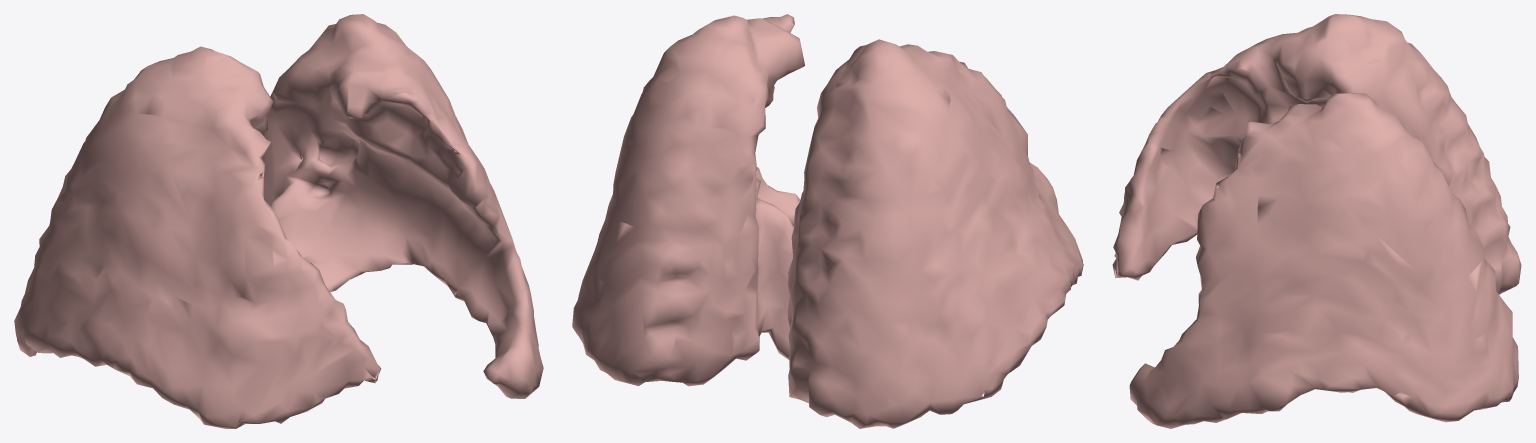
Rendered from fetus.respiratory.LOD2.glb.
The picture shows the model from 3 angles, left to right: view 1: azimuth 30°, elevation 25°; view 2: azimuth 150°, elevation 25°; view 3: azimuth 270°, elevation 25°; orthographic projection. The views are drawn at different scales.
Visible parts, largest first — view 1: FETUS.RESPIRATORY.LUNG.R, FETUS.RESPIRATORY.LUNG.L; view 2: FETUS.RESPIRATORY.LUNG.R, FETUS.RESPIRATORY.LUNG.L; view 3: FETUS.RESPIRATORY.LUNG.L, FETUS.RESPIRATORY.LUNG.R.
Part boxes in pixels (box(x1,y1,x2,y2)): FETUS.RESPIRATORY.LUNG.R: box(14, 46, 381, 428); FETUS.RESPIRATORY.LUNG.L: box(261, 14, 543, 398); FETUS.RESPIRATORY.LUNG.R: box(787, 39, 1083, 428); FETUS.RESPIRATORY.LUNG.L: box(572, 14, 804, 386); FETUS.RESPIRATORY.LUNG.L: box(1129, 93, 1518, 428); FETUS.RESPIRATORY.LUNG.R: box(1112, 14, 1521, 294).
Size of the model in its own units: 0.0624 by 0.0451 by 0.0545.
